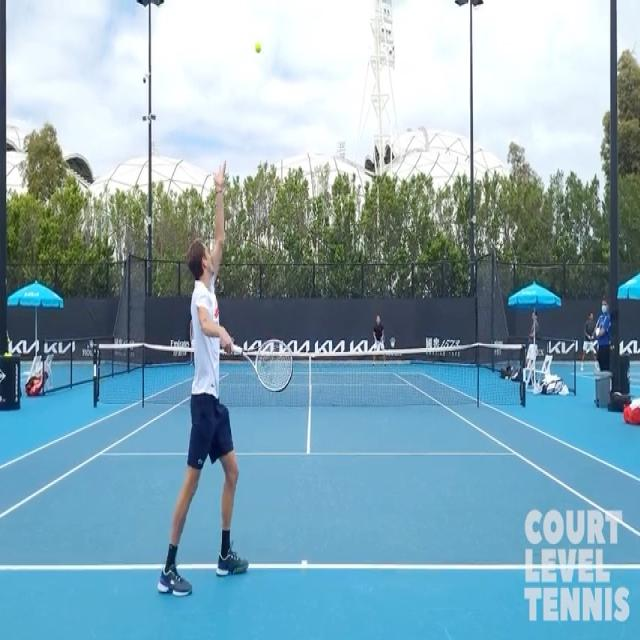serve_toss: (162, 176, 296, 588)
